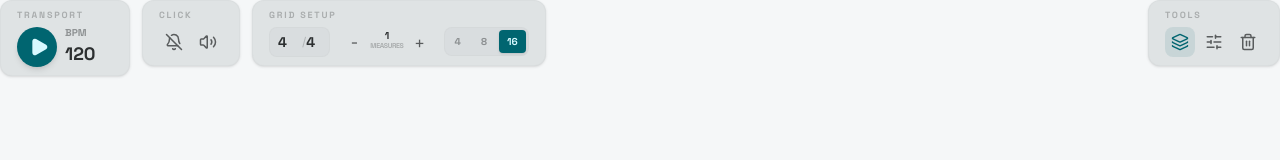
GrooveGridToolbar › handles edit instruments toggle
This screenshot has width=1280, height=160.
Click the button titled "Edit Instruments".
click(1214, 42)  # box [1199,26,1229,56]
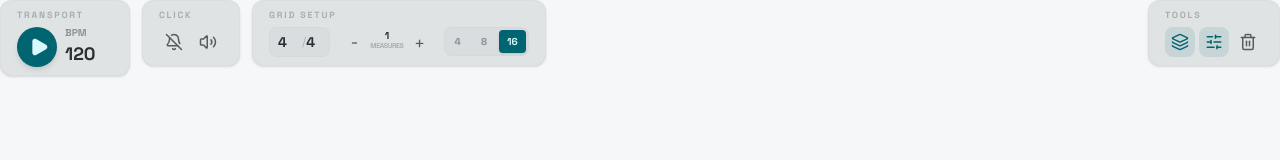
Now the button titled "Finish Editing" is shown, box [1199,26,1229,56]
